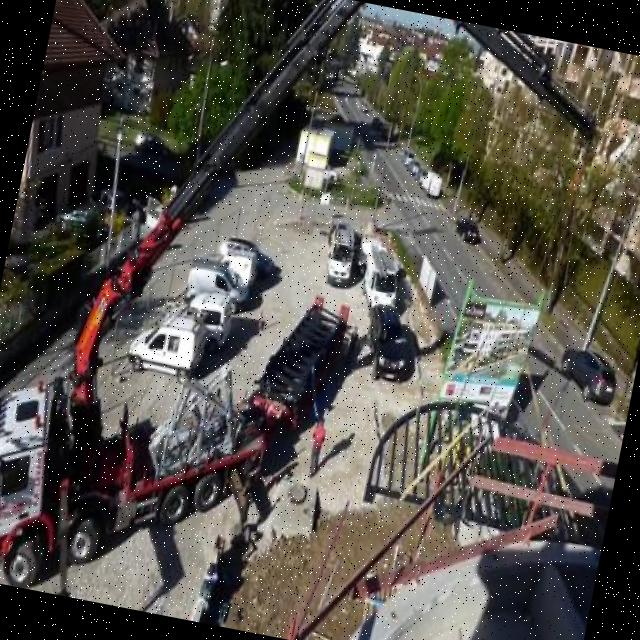Mobile Crane: (0, 0, 610, 640)
